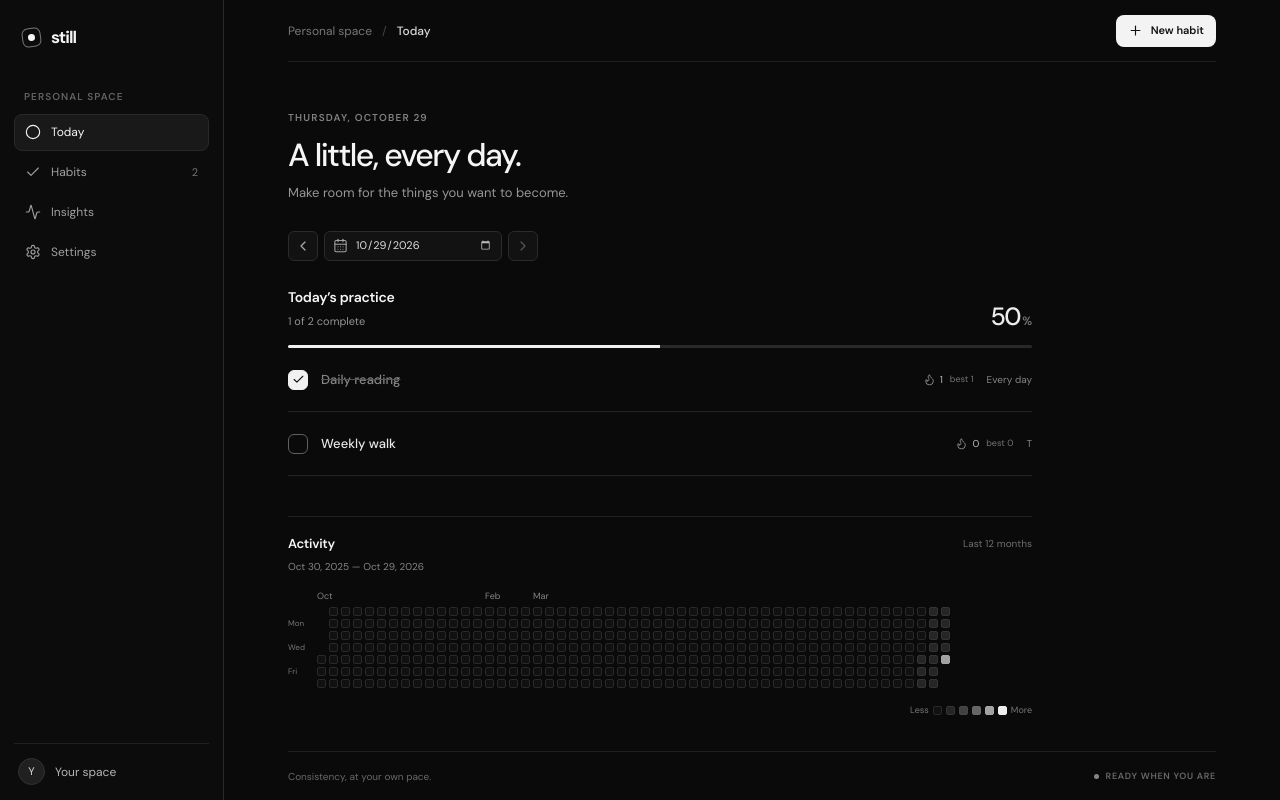
Test: habit management › limits date selection to today and prevents moving forward into the future
The image size is (1280, 800).
expect the button named "Next day" is disabled: met, box [508,230,538,260]
Click the button named "Previous day" at [303, 246], box [288,230,318,260]
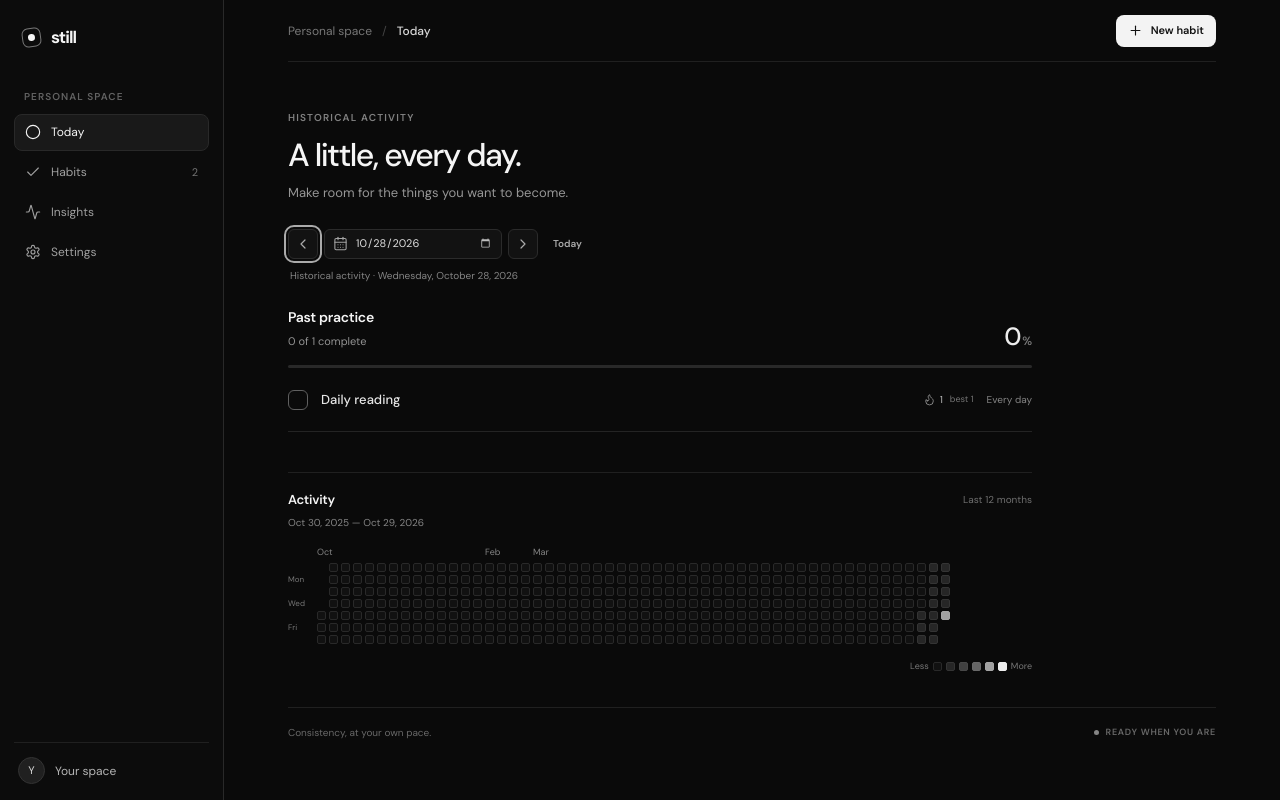
expect the button named "Next day" is enabled: met
Click the button named "Next day" at [523, 244], box [508,228,538,258]
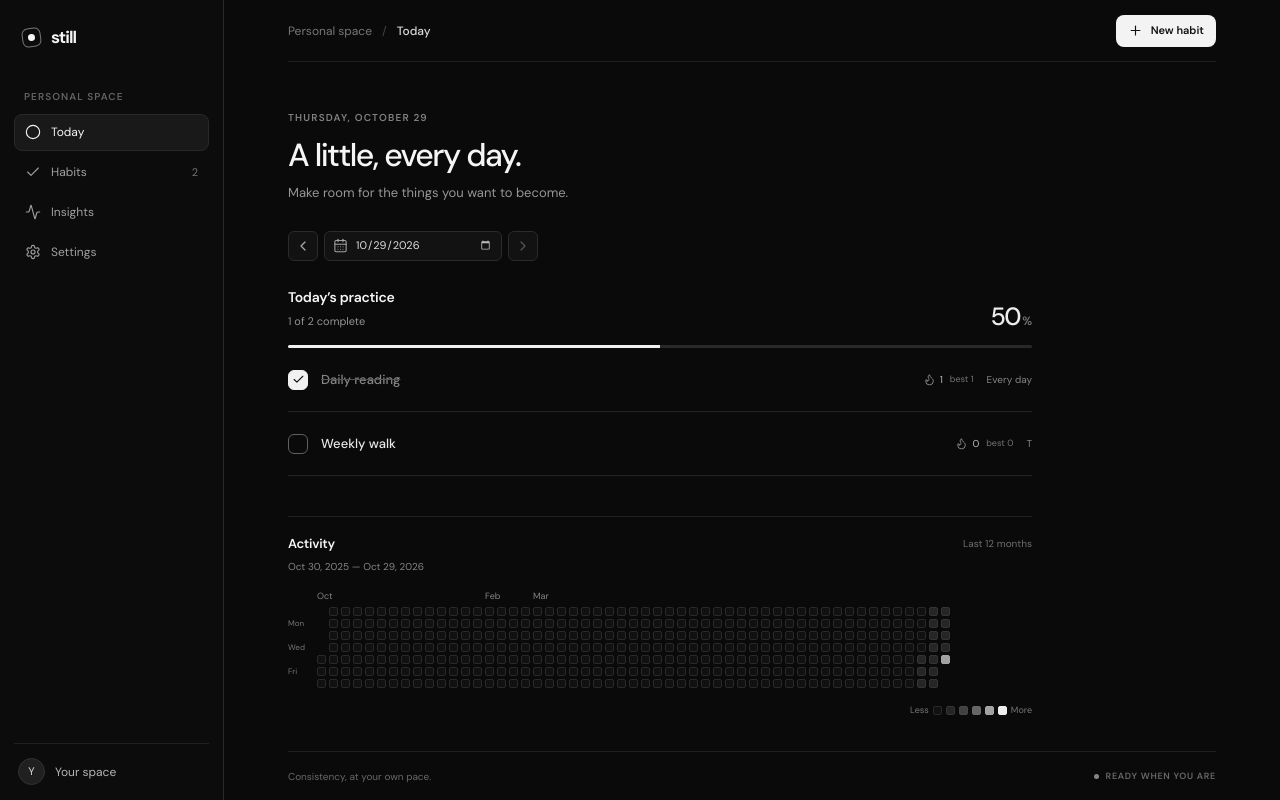
expect the button named "Next day" is disabled: met, box [508,230,538,260]
